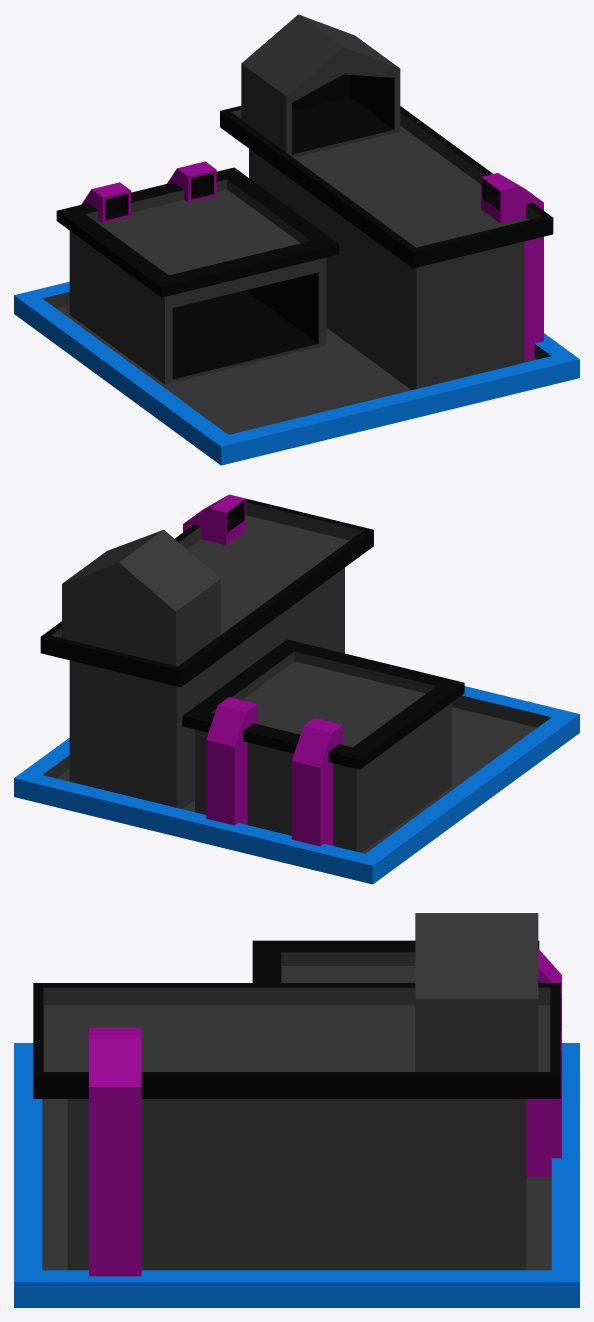
File: building_commandcenter.fbx
3 views of the same model, one above another, from view 1: azimuth 30°, elevation 25°; view 2: azimuth 150°, elevation 25°; view 3: azimuth 270°, elevation 25° (orthographic). The views are drawn at different scales.
Visible parts, largest first — view 1: Command_Center; view 2: Command_Center; view 3: Command_Center.
Part boxes in pixels (left/top/right/bottom): Command_Center: left=14, top=14, right=579, bottom=465; Command_Center: left=14, top=494, right=579, bottom=884; Command_Center: left=14, top=913, right=579, bottom=1307.
Size of the model in its own units: 200 by 131 by 200.
